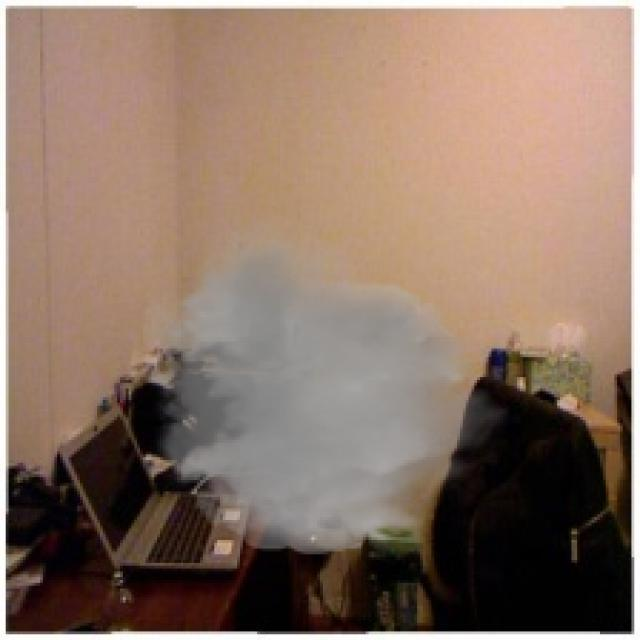Smoke: (125, 214, 518, 563)
